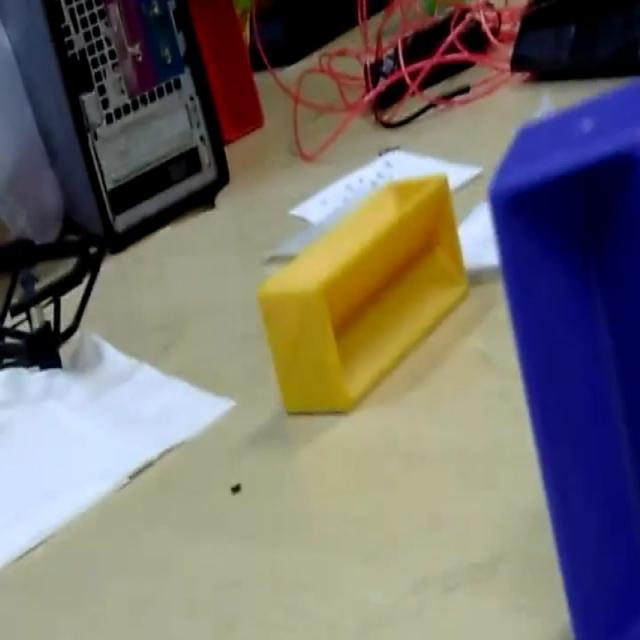blue_block: (487, 76, 638, 635)
yellow_block: (256, 172, 469, 415)
